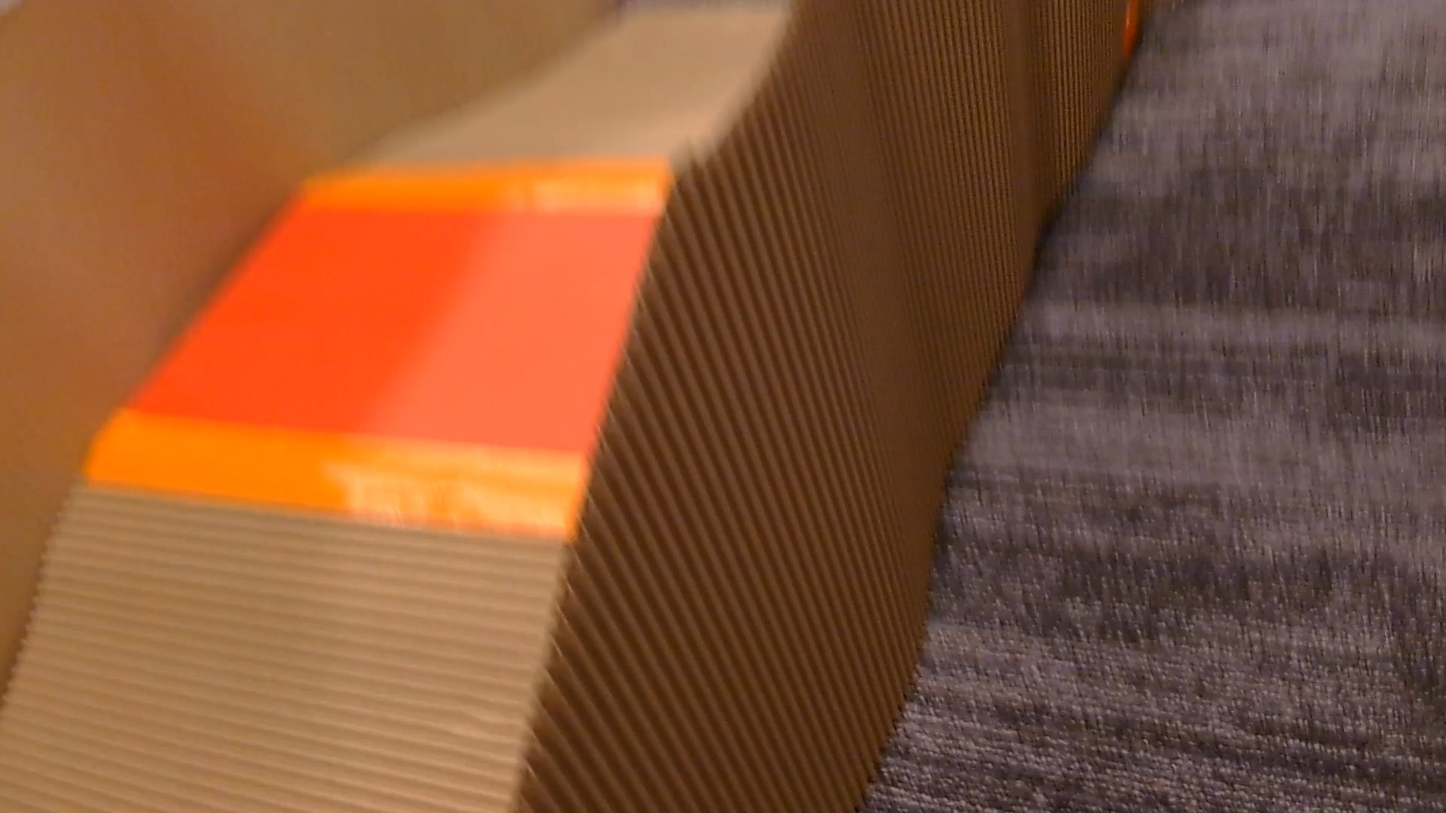Ramp: (0, 0, 1124, 812)
